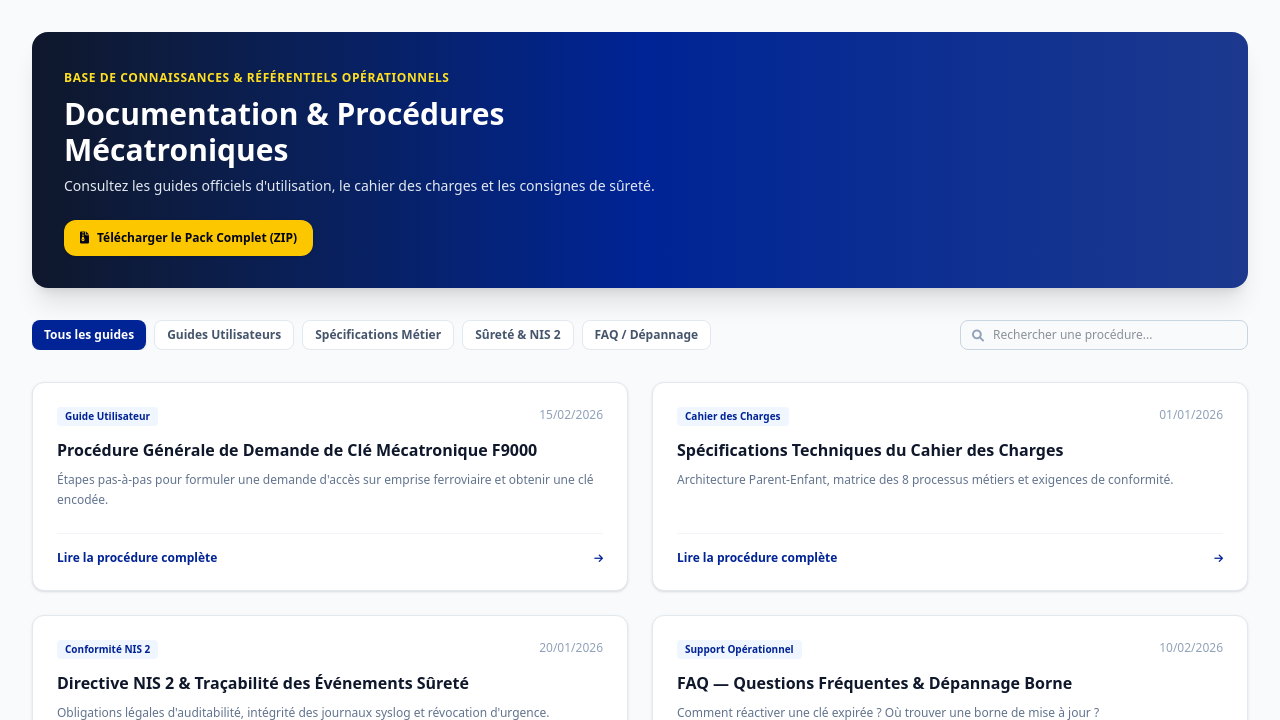
User Story 4.4: Documentation Knowledge Base Component › filters articles by search input
This screenshot has width=1280, height=720.
Type "Spécifications" into the field with placeholder "Rechercher une procédure..." at [1104, 335], box [960,320,1248,350]
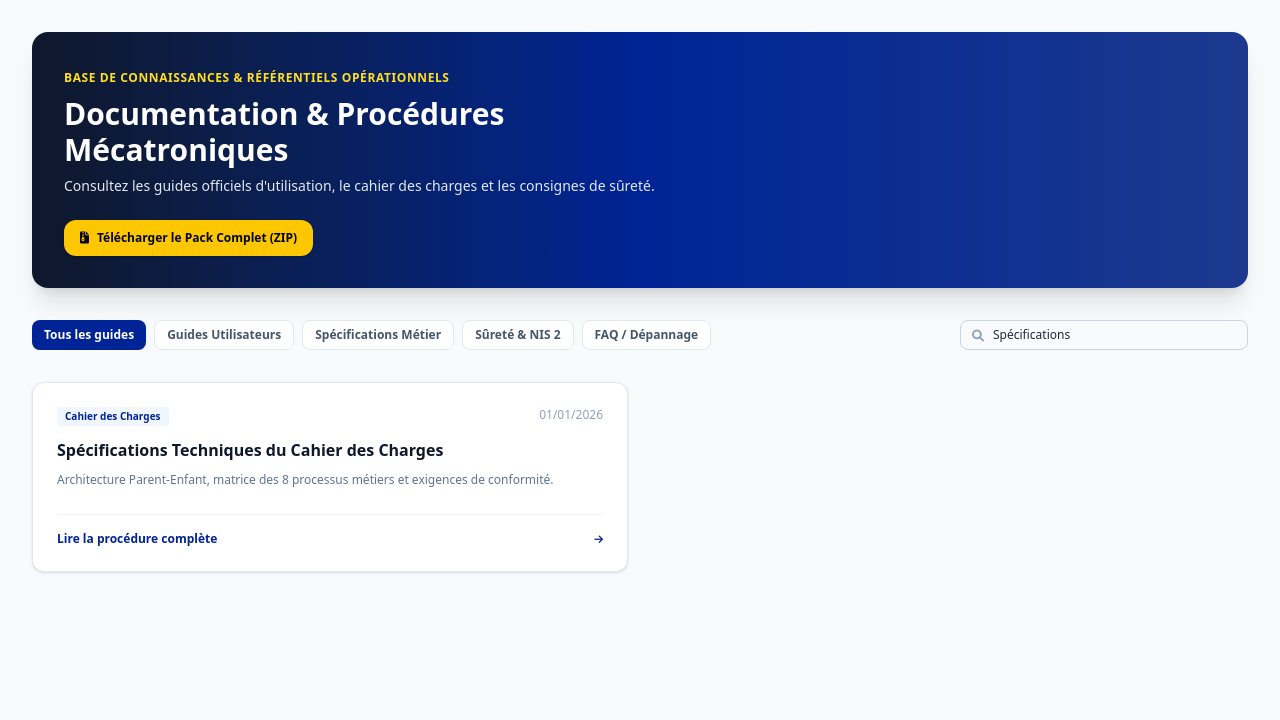
Expected: the heading "Spécifications Techniques du Cahier des Charges" is shown, [57,439,443,461]
Now the heading "Procédure Générale de Demande de Clé" is gone
